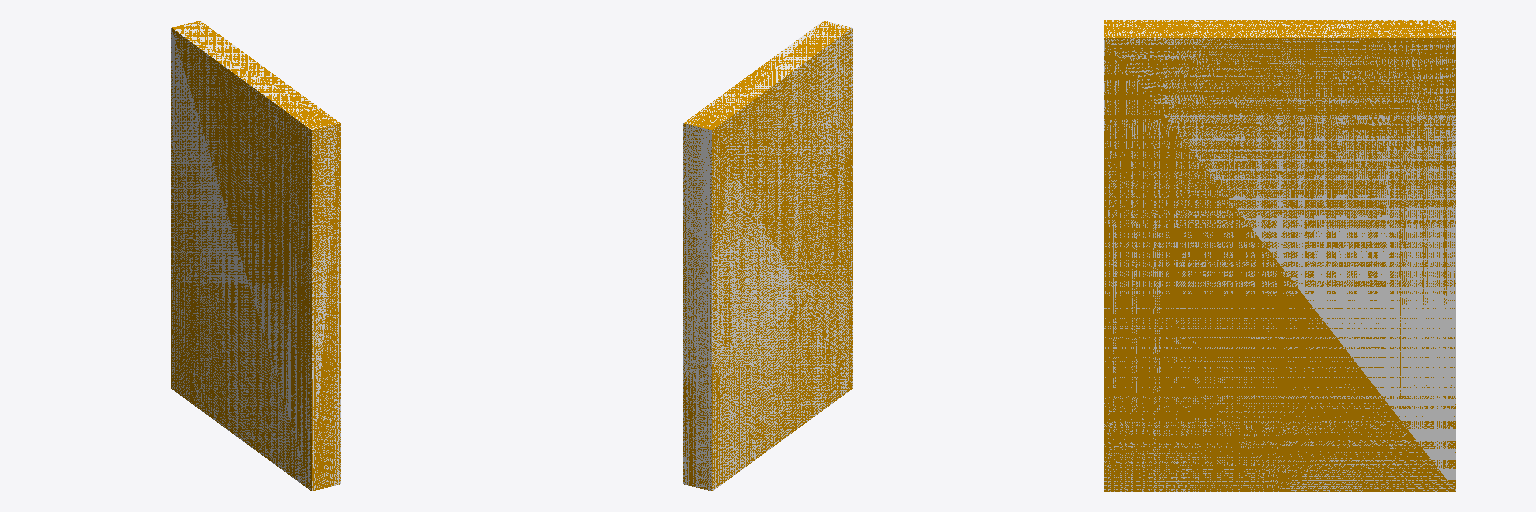
URDF robot description (my_object):
<?xml version="1.0" ?> 
<robot name="my_object" static="true">
  <link name="base_link">
  <inertial>
    <mass value="0.504" />
    <origin xyz="0 0 0.0" />
    <inertia ixx="1.0" ixy="0.0" ixz="0.0" iyy="1.0" iyz="0.0" izz="1.0"/>
  </inertial>
  <visual>
   <origin xyz="0 0 0.0" rpy="0 0 0" />
   <geometry>
     <mesh filename="package://cob_gazebo_objects/Media/models/book_heilkrauter.dae"/>
   </geometry>
  </visual>
  <collision>
   <origin xyz="0 0 0" rpy="0 0 0" />
   <geometry>
     <box size="0.018 0.153 0.217" />
   </geometry>
  </collision>     
  </link>


<gazebo reference="base_link">
  <mu1>50.0</mu1>
  <mu2>50.0</mu2>
  <kp>1000000.0</kp>
  <kd>1.0</kd>
</gazebo>
</robot>

--- Render facts (derived) ---
The picture shows the robot from 3 angles, left to right: view 1: azimuth 30°, elevation 25°; view 2: azimuth 150°, elevation 25°; view 3: azimuth 270°, elevation 25°; orthographic projection.
Model my_object with 1 links and 0 joints (none), rooted at base_link, posed all joints at 0.
Links seen in each view (by area): view 1: base_link; view 2: base_link; view 3: base_link.
Boxes of the visible links, left/top/right/bottom form: base_link: left=171, top=21, right=340, bottom=490; base_link: left=683, top=21, right=852, bottom=490; base_link: left=1104, top=20, right=1455, bottom=491.
Size in the robot's own frame: 0.0005 by 0.0039 by 0.0055 metres.
Meshes: 1 distinct files referenced, 1 mesh visuals loaded (1 Collada DAE).